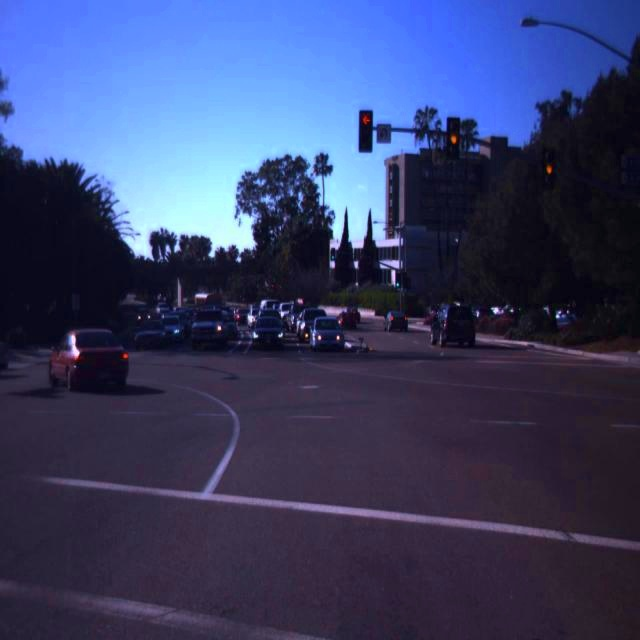stop left: (363, 115, 370, 124)
stop left traffic light: (356, 111, 377, 149)
warning: (452, 137, 456, 143), (548, 168, 551, 173)
warning traffic light: (448, 126, 460, 150), (545, 159, 554, 179)
